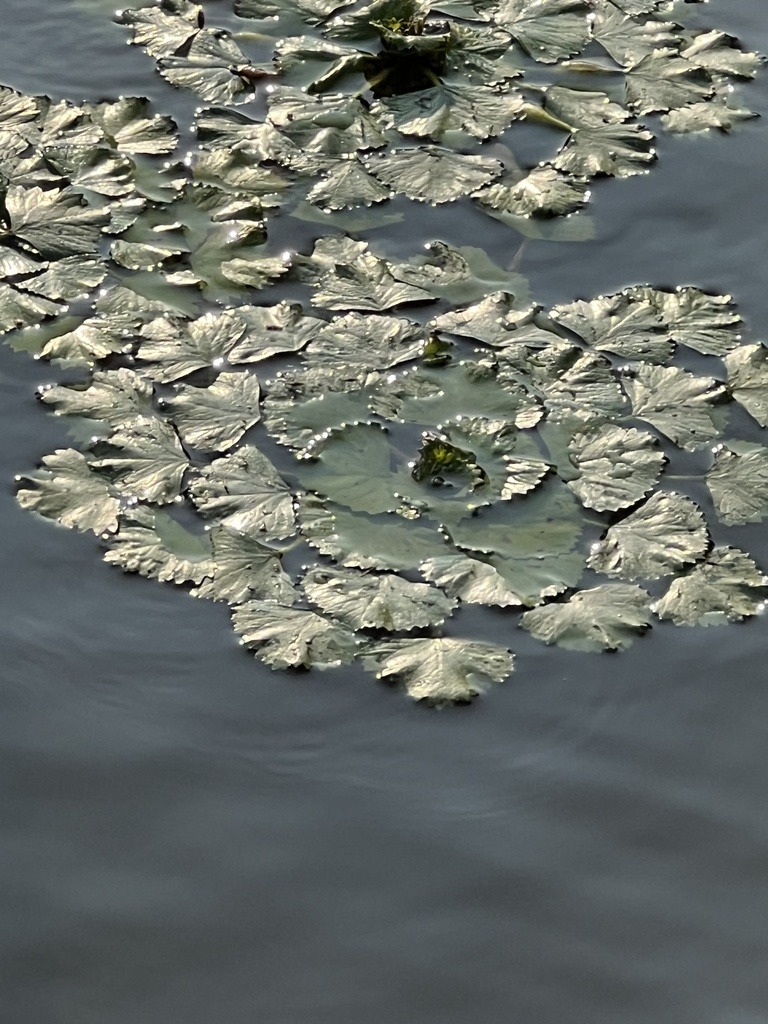water chestnut: (2, 1, 766, 710)
